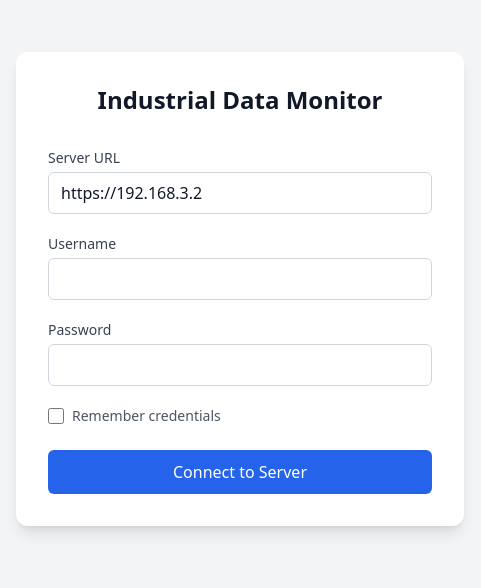
Test case: LoginForm › shows an error when Server URL is empty
Step 1. Clear the field with id "serverUrl" → x=240, y=193, box [48,172,432,214]
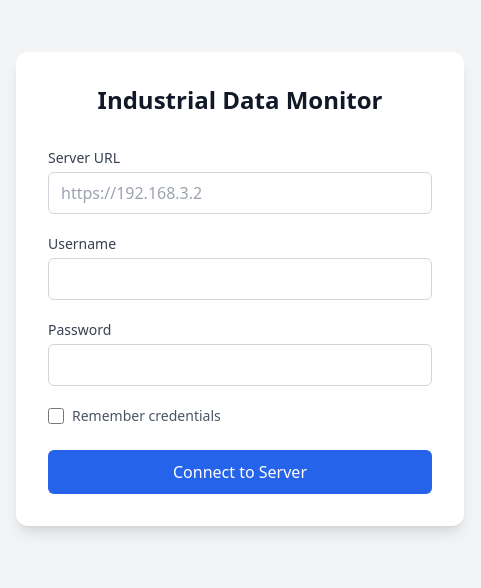
Step 2. Submit the form, box [48,148,432,494]
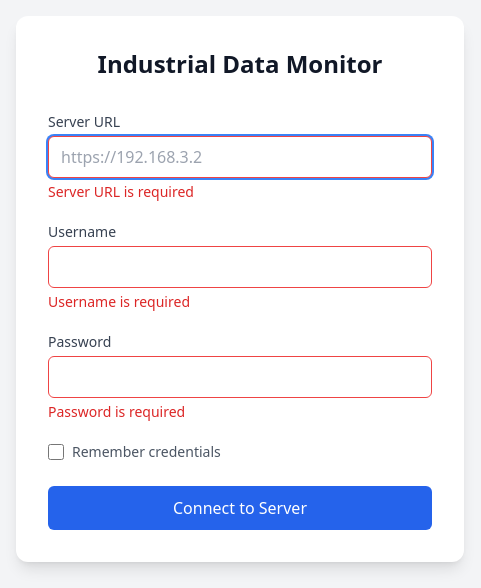
Expected: the text "Server URL is required" is shown, [48,182,194,201]
